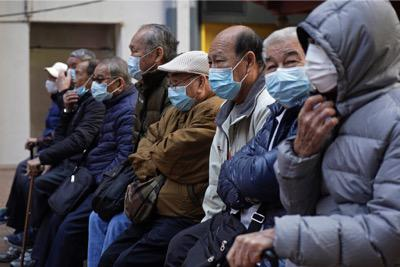mask_weared_incorrect: (72, 69, 88, 98)
with_mask: (264, 49, 310, 110), (304, 39, 339, 95), (207, 50, 243, 103), (167, 73, 195, 113), (126, 42, 149, 82), (89, 71, 115, 104), (65, 61, 78, 86), (43, 75, 58, 95)
